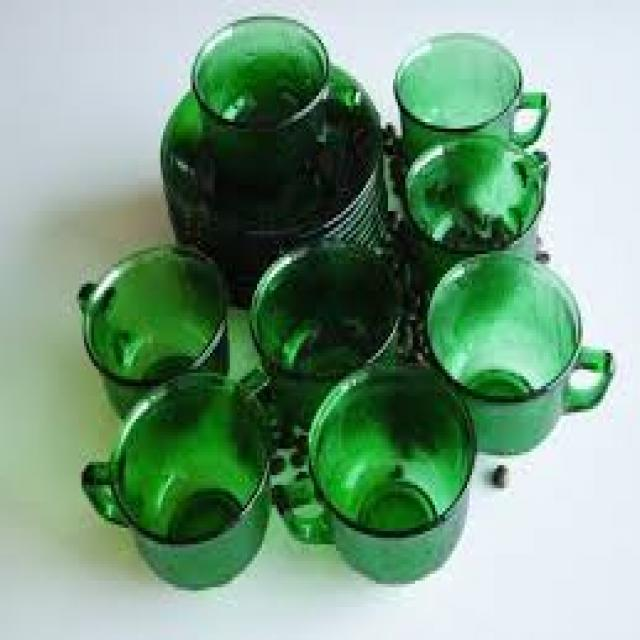Glass-Non-Biodegradable but Recyclable-: (276, 368, 480, 589)
